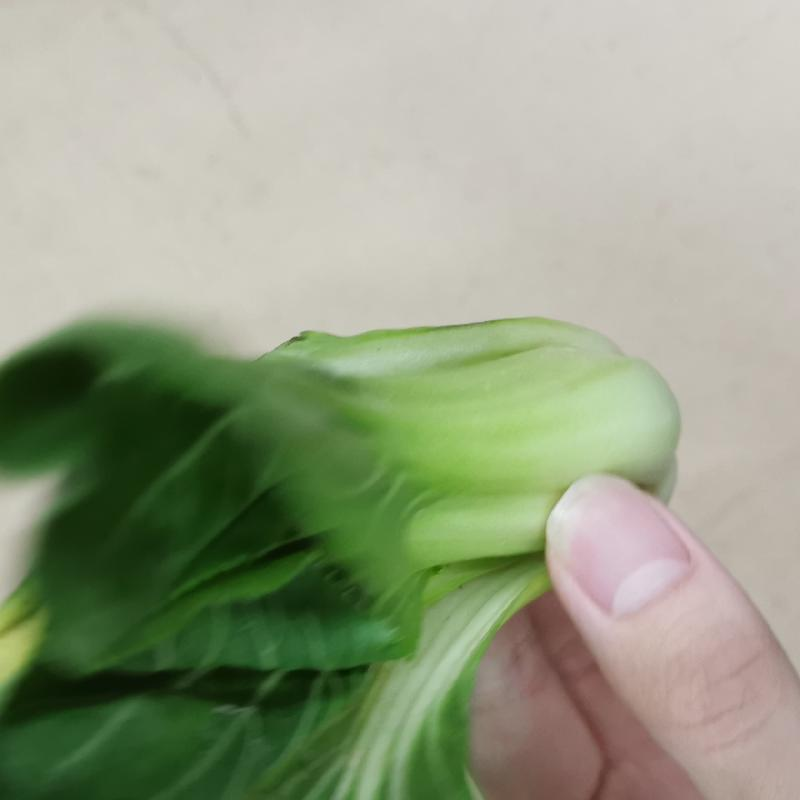green vegatable: (23, 288, 526, 793)
